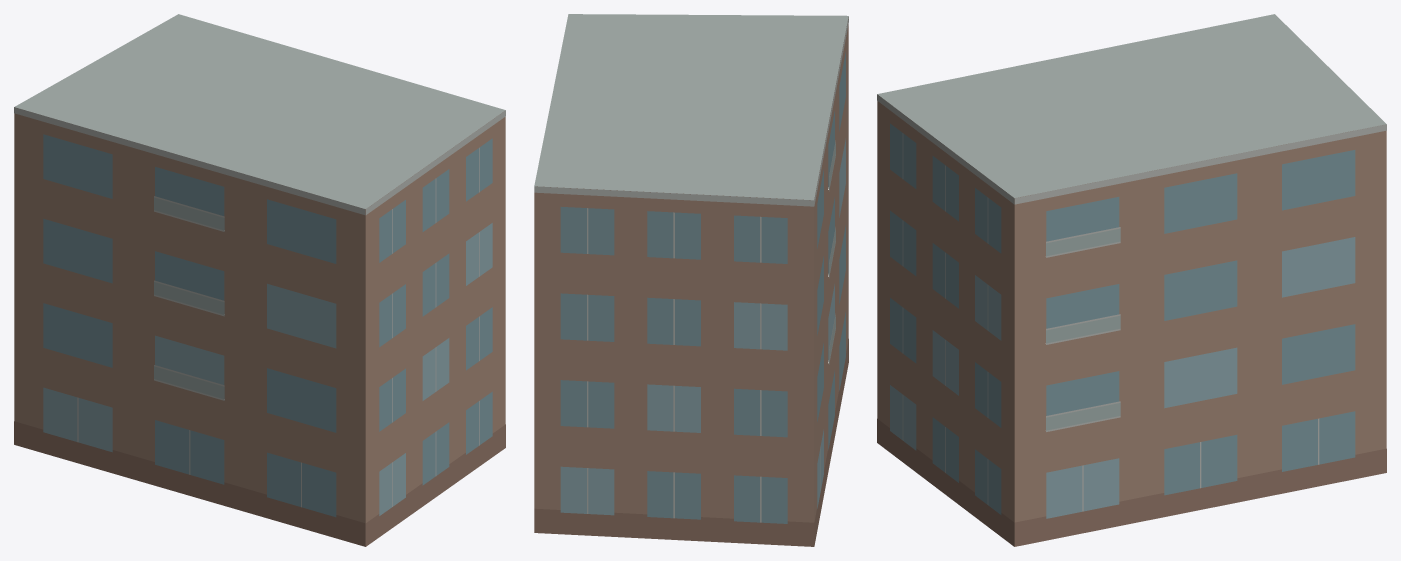
Rendered from survey-upis-32912755.glb.
The picture shows the model from 3 angles, left to right: view 1: azimuth 30°, elevation 25°; view 2: azimuth 150°, elevation 25°; view 3: azimuth 270°, elevation 25°; orthographic projection. The views are drawn at different scales.
Visible parts, largest first — view 1: survey-upis-32912755.tmp; view 2: survey-upis-32912755.tmp; view 3: survey-upis-32912755.tmp.
Part boxes in pixels (box(x1,y1,x2,y2)): survey-upis-32912755.tmp: box(14, 14, 505, 546); survey-upis-32912755.tmp: box(534, 14, 848, 546); survey-upis-32912755.tmp: box(877, 14, 1386, 546).
Size of the model in its own units: 15 by 13.23 by 17.54.
